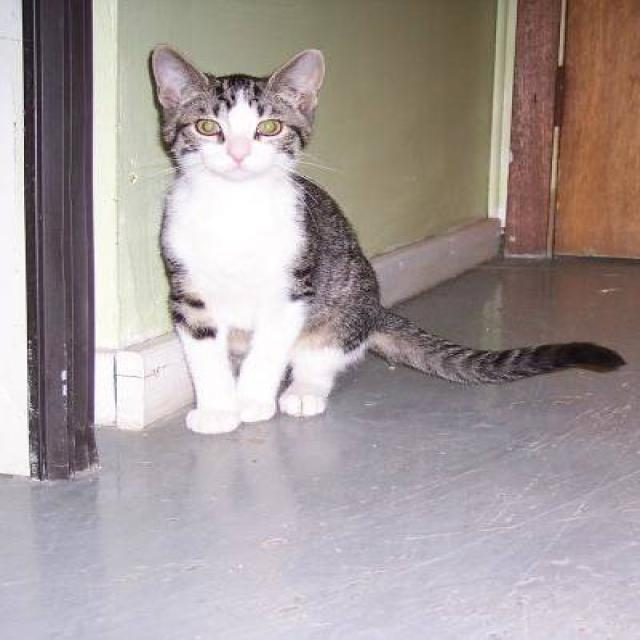cat: (145, 42, 626, 435)
